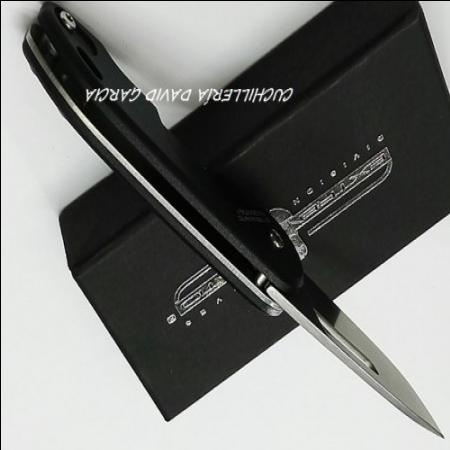long weapon: (286, 268, 448, 446)
